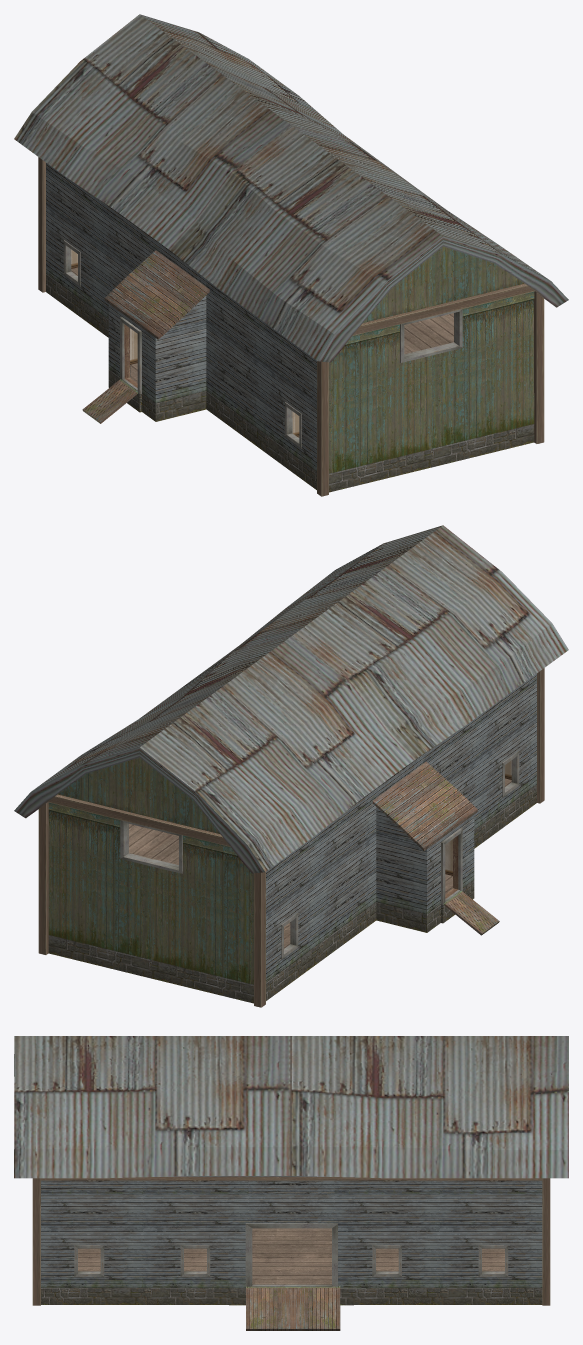
The model's file is MiniBR_Building005.fbx.
3 views of the same model, one above another, from view 1: azimuth 30°, elevation 25°; view 2: azimuth 150°, elevation 25°; view 3: azimuth 270°, elevation 25° (orthographic). The views are drawn at different scales.
Parts seen in each view (by area): view 1: MiniBR_Building005; view 2: MiniBR_Building005; view 3: MiniBR_Building005.
Part boxes in pixels (box(x1,y1,x2,y2)): MiniBR_Building005: box(14, 14, 568, 496); MiniBR_Building005: box(14, 525, 568, 1007); MiniBR_Building005: box(14, 1036, 568, 1330).
Size of the model in its own units: 1552 by 2238 by 993.
